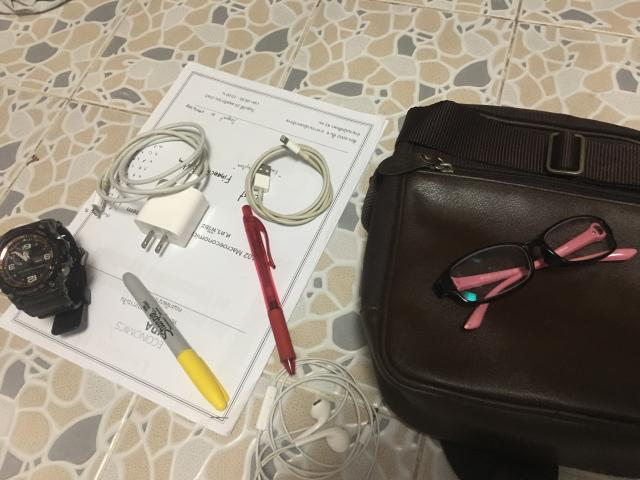Glasses: (435, 215, 636, 330)
Pen: (122, 272, 229, 410), (242, 205, 296, 375)
Watch: (0, 219, 91, 335)
paper: (0, 64, 385, 435)
wire: (92, 122, 209, 254), (255, 359, 379, 479), (245, 135, 334, 225)
